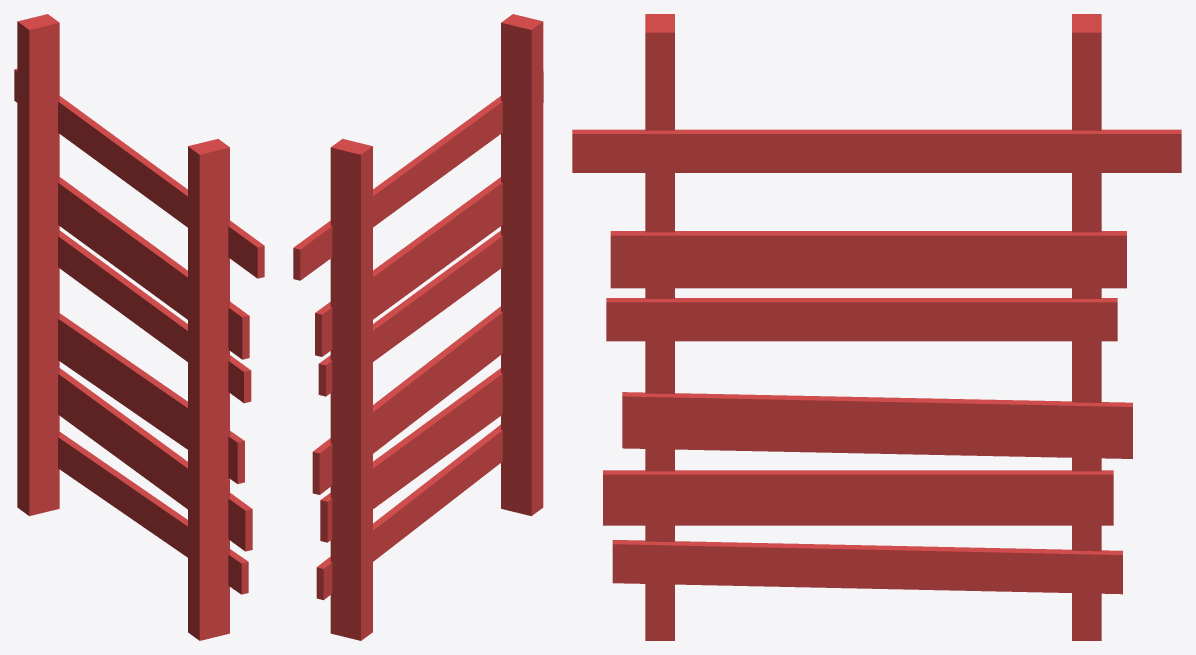
File: Wood_Wall_A_COL.fbx
The picture shows the model from 3 angles, left to right: view 1: azimuth 30°, elevation 25°; view 2: azimuth 150°, elevation 25°; view 3: azimuth 270°, elevation 25°; orthographic projection. The views are drawn at different scales.
Parts seen in each view (by area): view 1: Wood_Wall_A_COL; view 2: Wood_Wall_A_COL; view 3: Wood_Wall_A_COL.
Part boxes in pixels (x1,y1,x2,y2): Wood_Wall_A_COL: (14, 14, 264, 640); Wood_Wall_A_COL: (293, 14, 543, 640); Wood_Wall_A_COL: (572, 14, 1181, 640).
Size of the model in its own units: 19.38 by 251 by 228.
